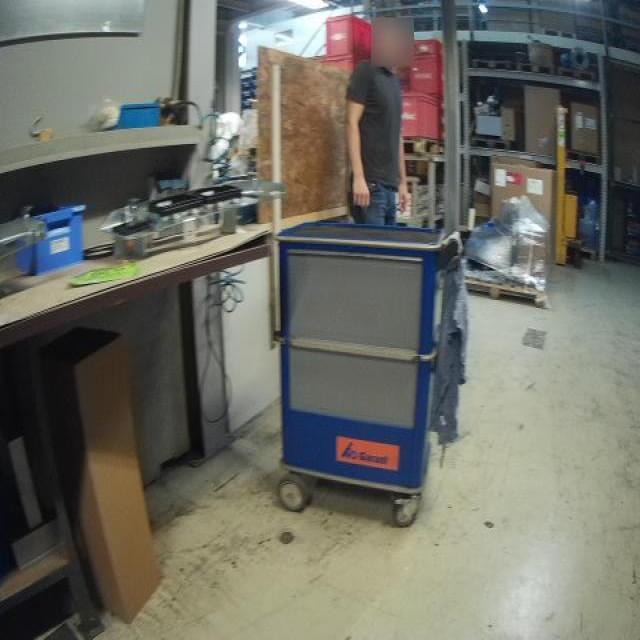pallet: (464, 276, 549, 309), (400, 133, 442, 156), (566, 147, 604, 167), (515, 59, 557, 77), (558, 65, 597, 84), (470, 134, 513, 151), (473, 57, 513, 72), (542, 26, 578, 41)
pallet_truck: (552, 106, 586, 268)
